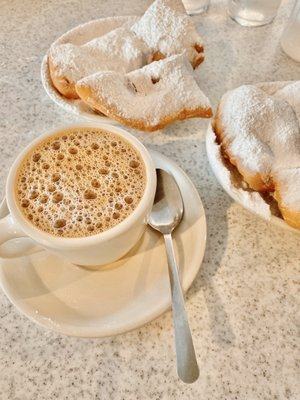pizza: (0, 122, 156, 270), (226, 0, 282, 28), (279, 0, 300, 65), (180, 0, 211, 16)
salad: (146, 173, 198, 385)
sushi: (0, 123, 157, 270)
